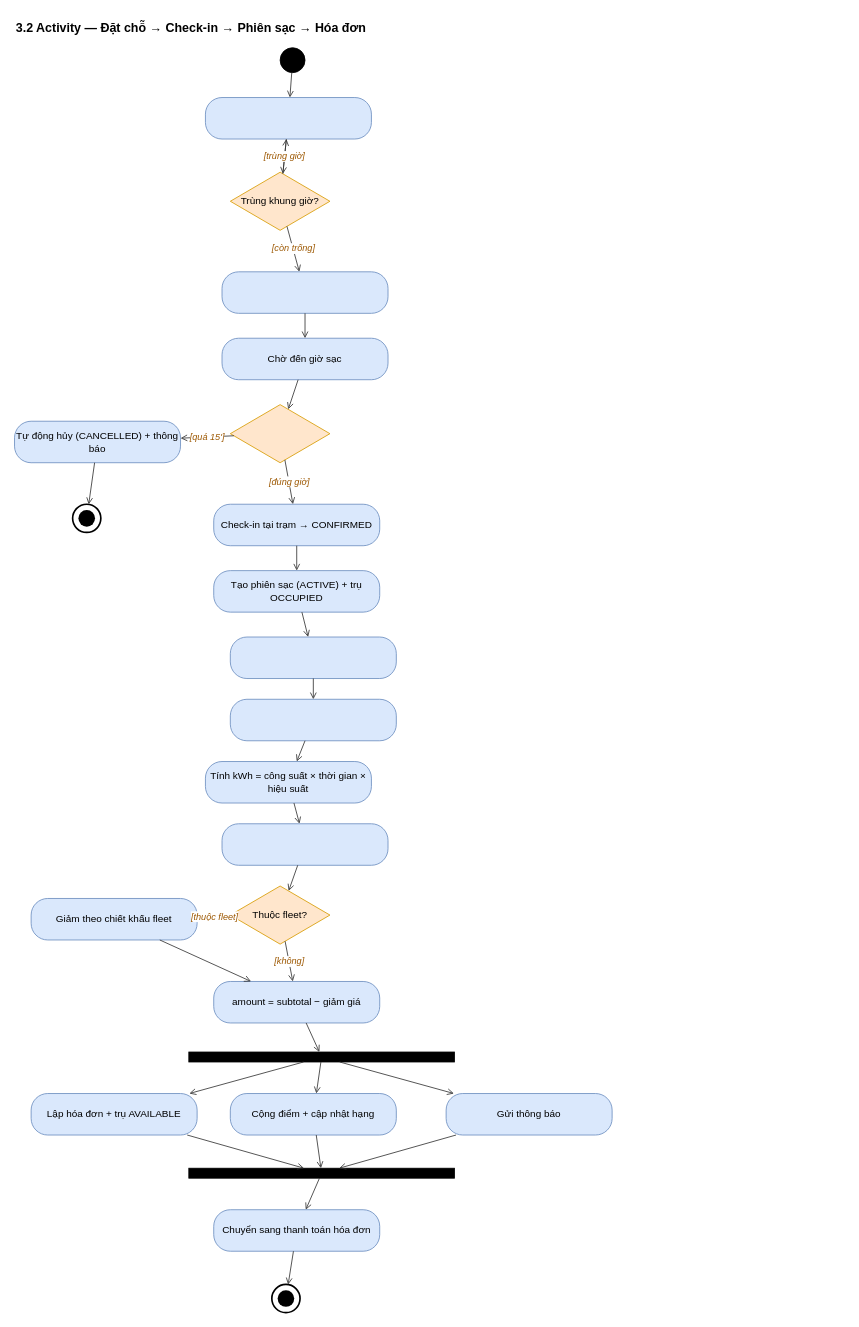
Some shapes in this 859 by 1327 pixel diagram are drawn without their labels. The box of each missing label's shape, as (x1, y1, x2, y2) in pixels:
Kết thúc phiên: (229, 698, 396, 741)
Lấy biểu giá theo giờ: (221, 823, 388, 865)
Quá 15 phút?: (229, 404, 330, 463)
Tìm & chọn trạm/trụ + khung giờ: (205, 97, 371, 139)
Tạo đặt chỗ (PENDING): (221, 271, 388, 313)
Đang sạc: (229, 636, 396, 679)
